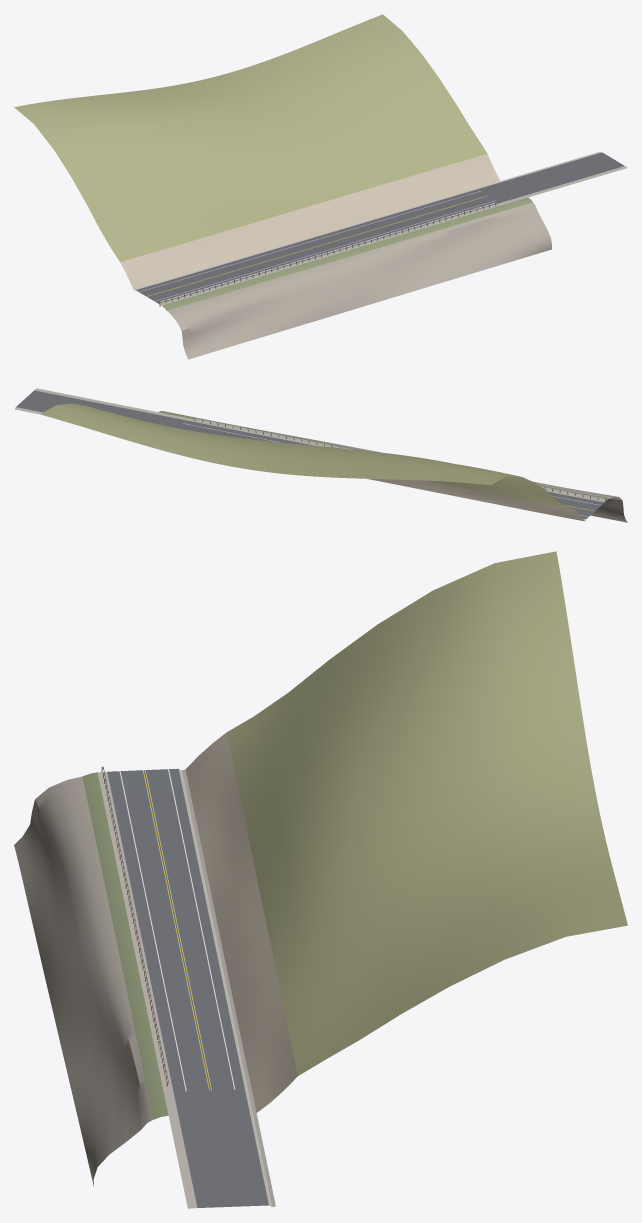
3 renders of one model, top to bottom at view 1: azimuth 30°, elevation 25°; view 2: azimuth 150°, elevation 25°; view 3: azimuth 270°, elevation 25°, orthographic. The views are drawn at different scales.
Visible parts, largest first — view 1: Hillside, Cliff, RoadCut, Asphalt, Gravel, Verge, EdgeLines, Guardrail; view 2: Hillside, Asphalt, RoadCut, Gravel, Cliff, Verge, Guardrail; view 3: Hillside, Asphalt, Cliff, RoadCut, Gravel, Verge, EdgeLines.
Part boxes in pixels (<box>): Hillside: <box>14,14,487,261</box>; Cliff: <box>166,202,551,359</box>; RoadCut: <box>120,153,500,289</box>; Asphalt: <box>136,152,624,303</box>; Gravel: <box>133,151,627,305</box>; Verge: <box>162,197,532,310</box>; EdgeLines: <box>139,191,495,301</box>; Guardrail: <box>160,203,495,302</box>; Hillside: <box>40,403,572,509</box>; Asphalt: <box>16,390,603,518</box>; RoadCut: <box>367,478,584,521</box>; Gravel: <box>15,388,606,520</box>; Cliff: <box>236,425,627,522</box>; Verge: <box>159,411,610,499</box>; Guardrail: <box>195,418,604,499</box>; Hillside: <box>226,551,627,1075</box>; Asphalt: <box>107,768,268,1207</box>; Cliff: <box>14,776,153,1186</box>; RoadCut: <box>185,732,297,1112</box>; Gravel: <box>97,769,275,1208</box>; Verge: <box>82,772,168,1119</box>; EdgeLines: <box>119,769,235,1091</box>.
Bounding box in the file's own units: 156 × 43.37 × 88.95.
